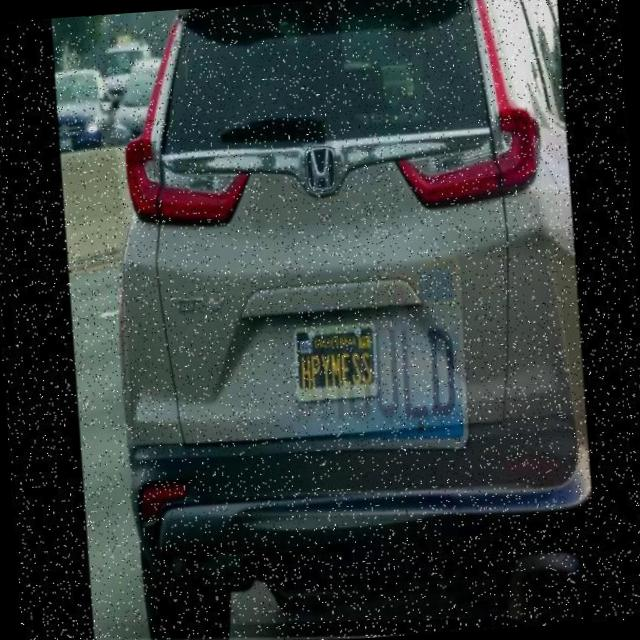LicensePlate: (291, 320, 377, 400)
